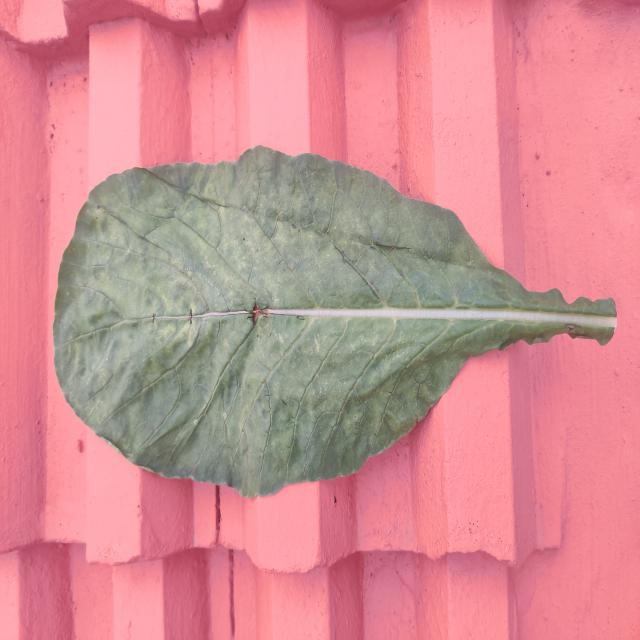raddish: (54, 147, 578, 497)
